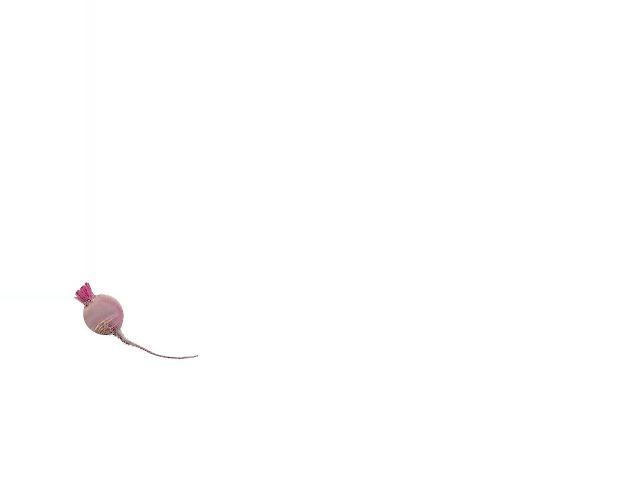beet: (75, 282, 199, 359)
